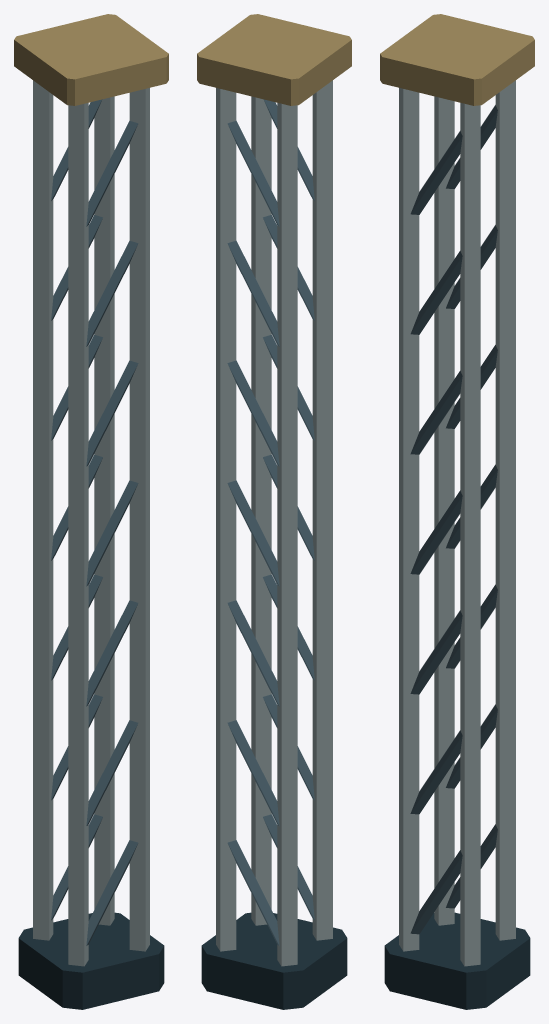
The model's file is gantry_column.glb.
3 views of the same model, side by side, from view 1: azimuth 30°, elevation 25°; view 2: azimuth 150°, elevation 25°; view 3: azimuth 330°, elevation 25° (orthographic).
Parts seen in each view (by area): view 1: gantry_column; view 2: gantry_column; view 3: gantry_column.
Part boxes in pixels (left/top/right/bottom): gantry_column: left=14, top=14, right=168, bottom=1009; gantry_column: left=197, top=14, right=351, bottom=1009; gantry_column: left=380, top=14, right=534, bottom=1009.
Bounding box in the file's own units: 0.8 × 7 × 0.8.
